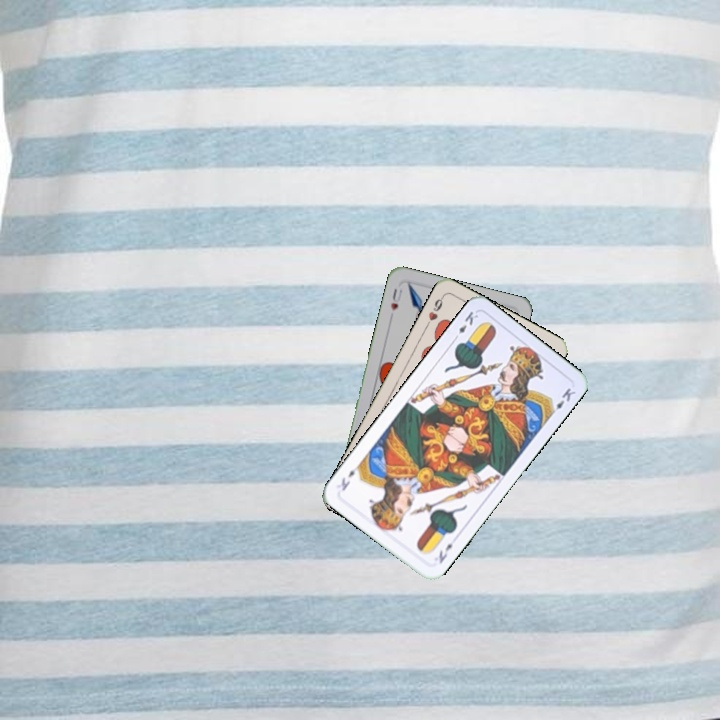EK: (449, 307, 481, 344), (435, 539, 455, 566)
H9: (422, 291, 447, 329)
HU: (387, 284, 405, 313)
